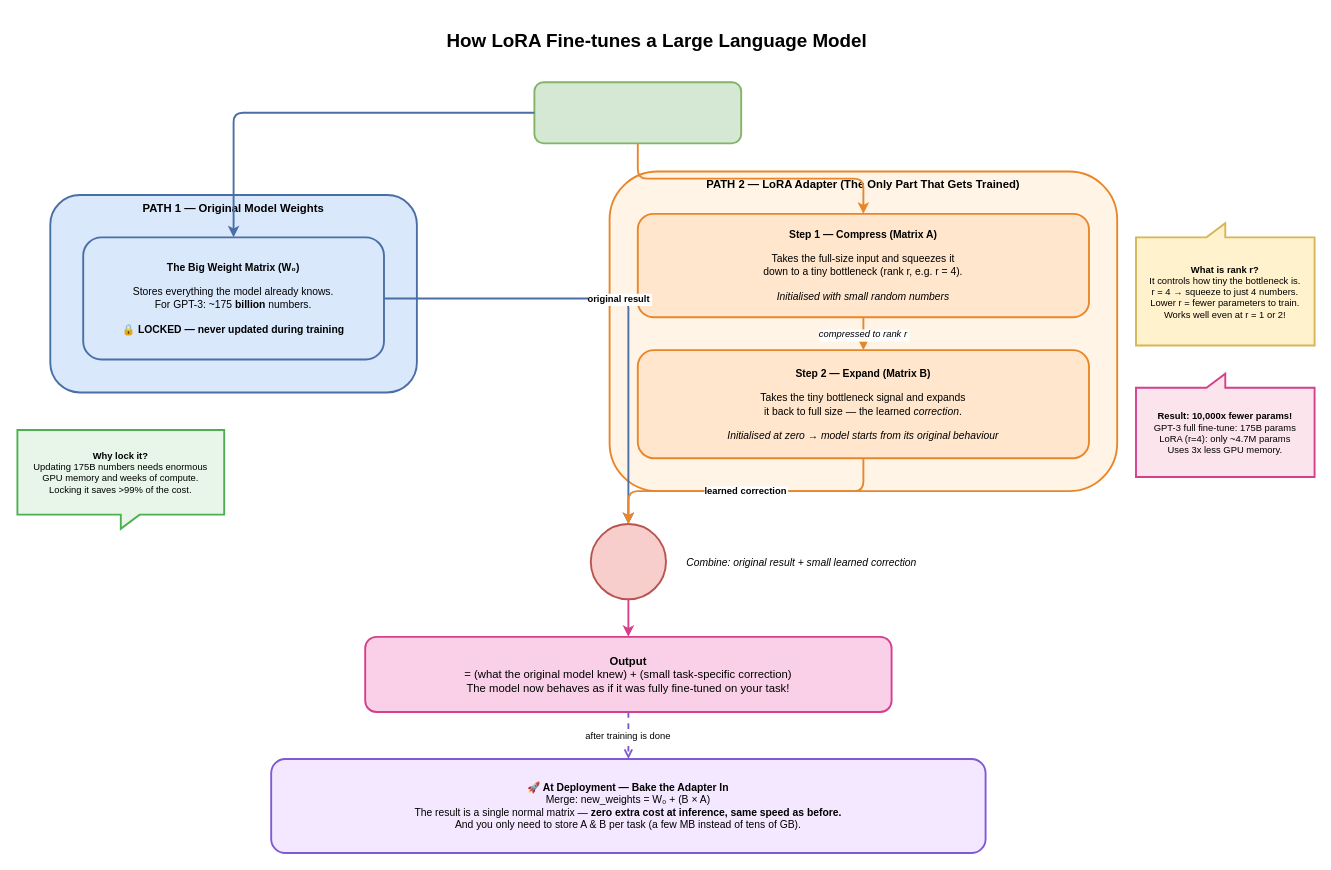
Image size: 1331x870. Some labels were removed from this diagram. The centre of each missing label's shape, as x and y in pixels:
ADD ⊕: the point at 627,561
Your Input (text, tokens, data): the point at 637,112
